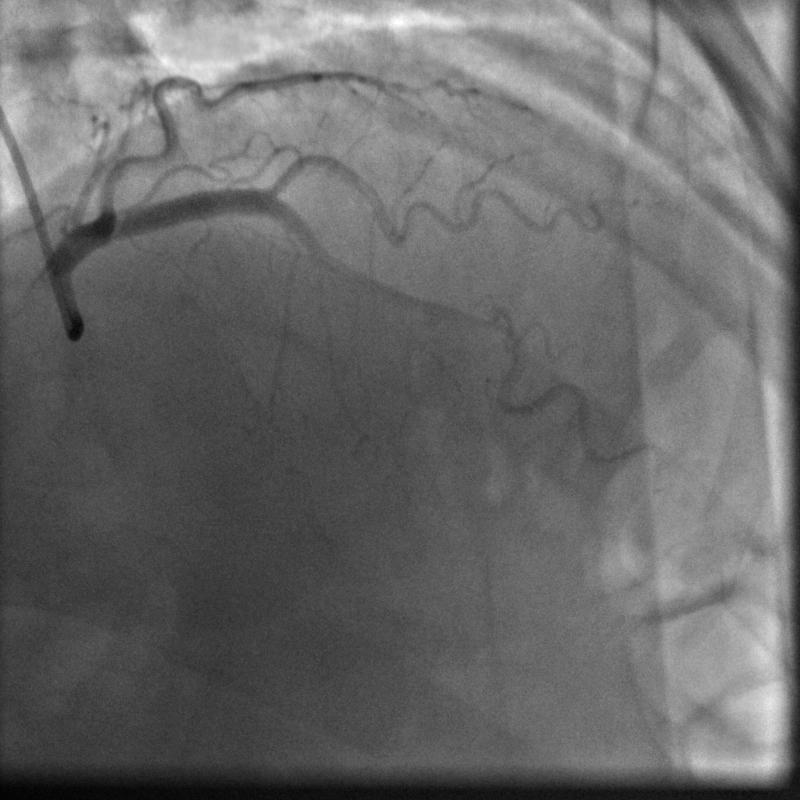Stenosis: (473, 306, 519, 347)
